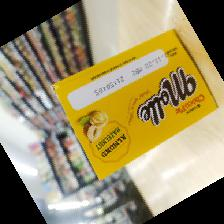Molle: (49, 30, 220, 184)
